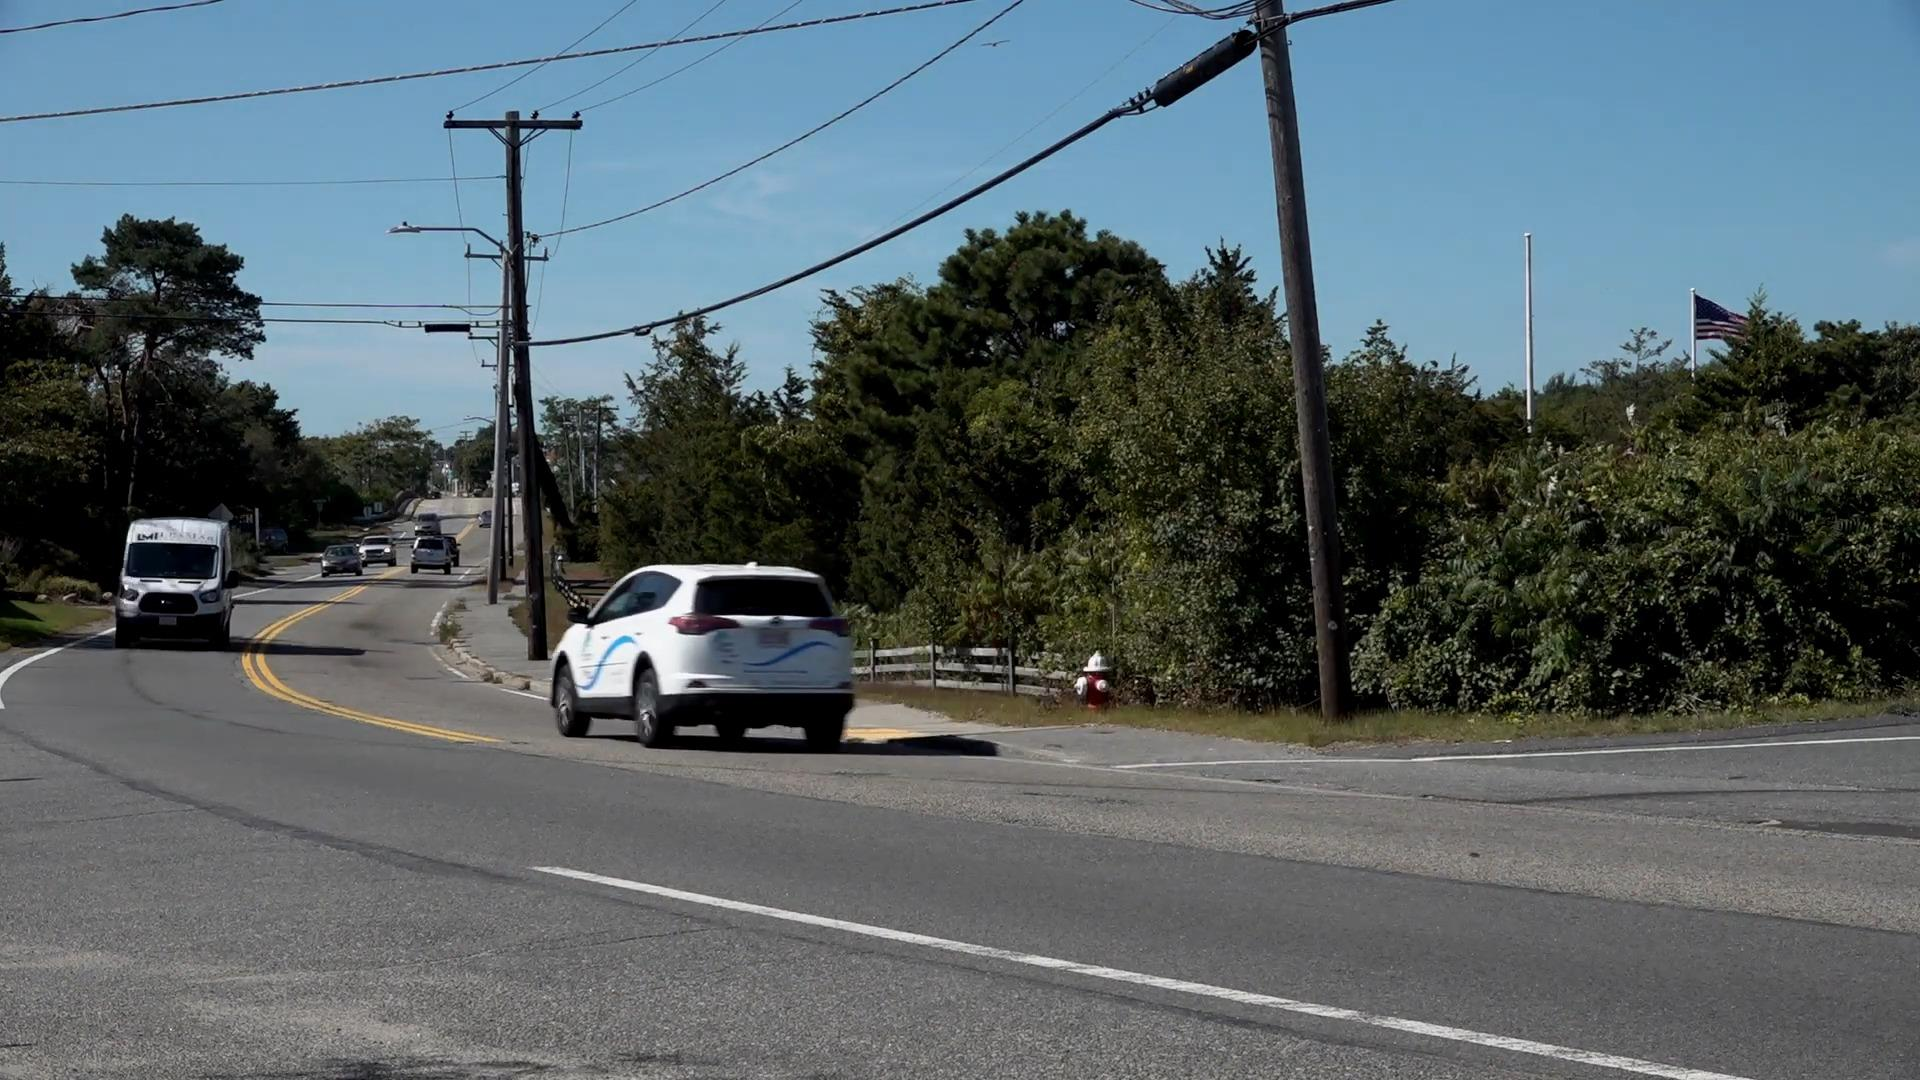minivan: (114, 514, 237, 649)
suv: (554, 563, 850, 750)
